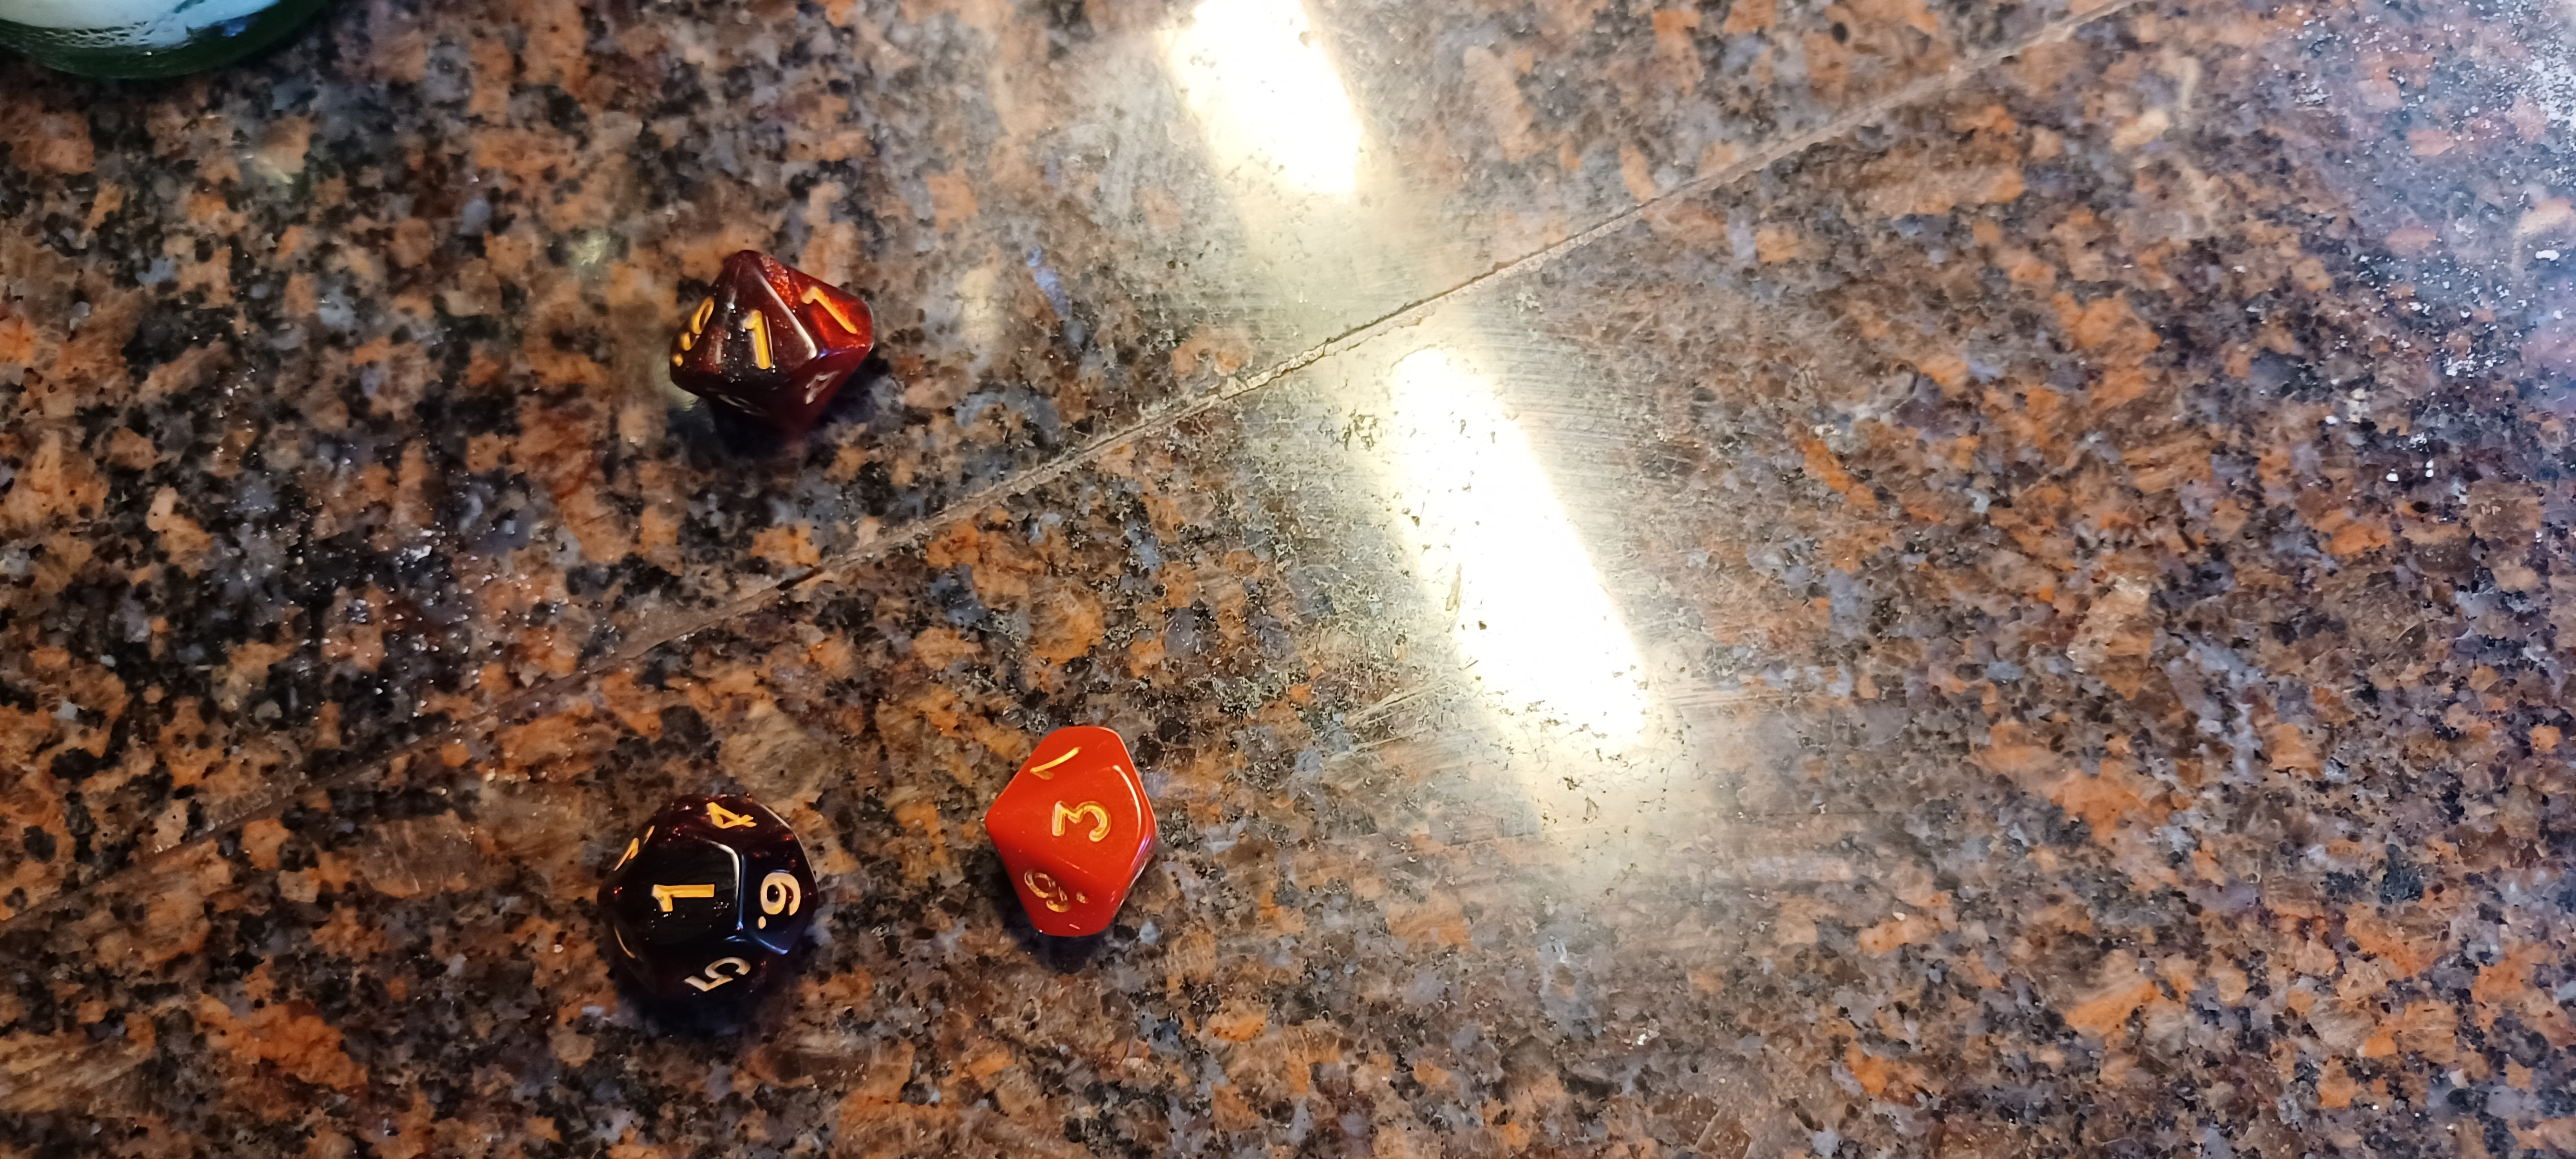one: (508, 714, 904, 1090), (619, 200, 928, 484)
three: (948, 696, 1212, 970)
